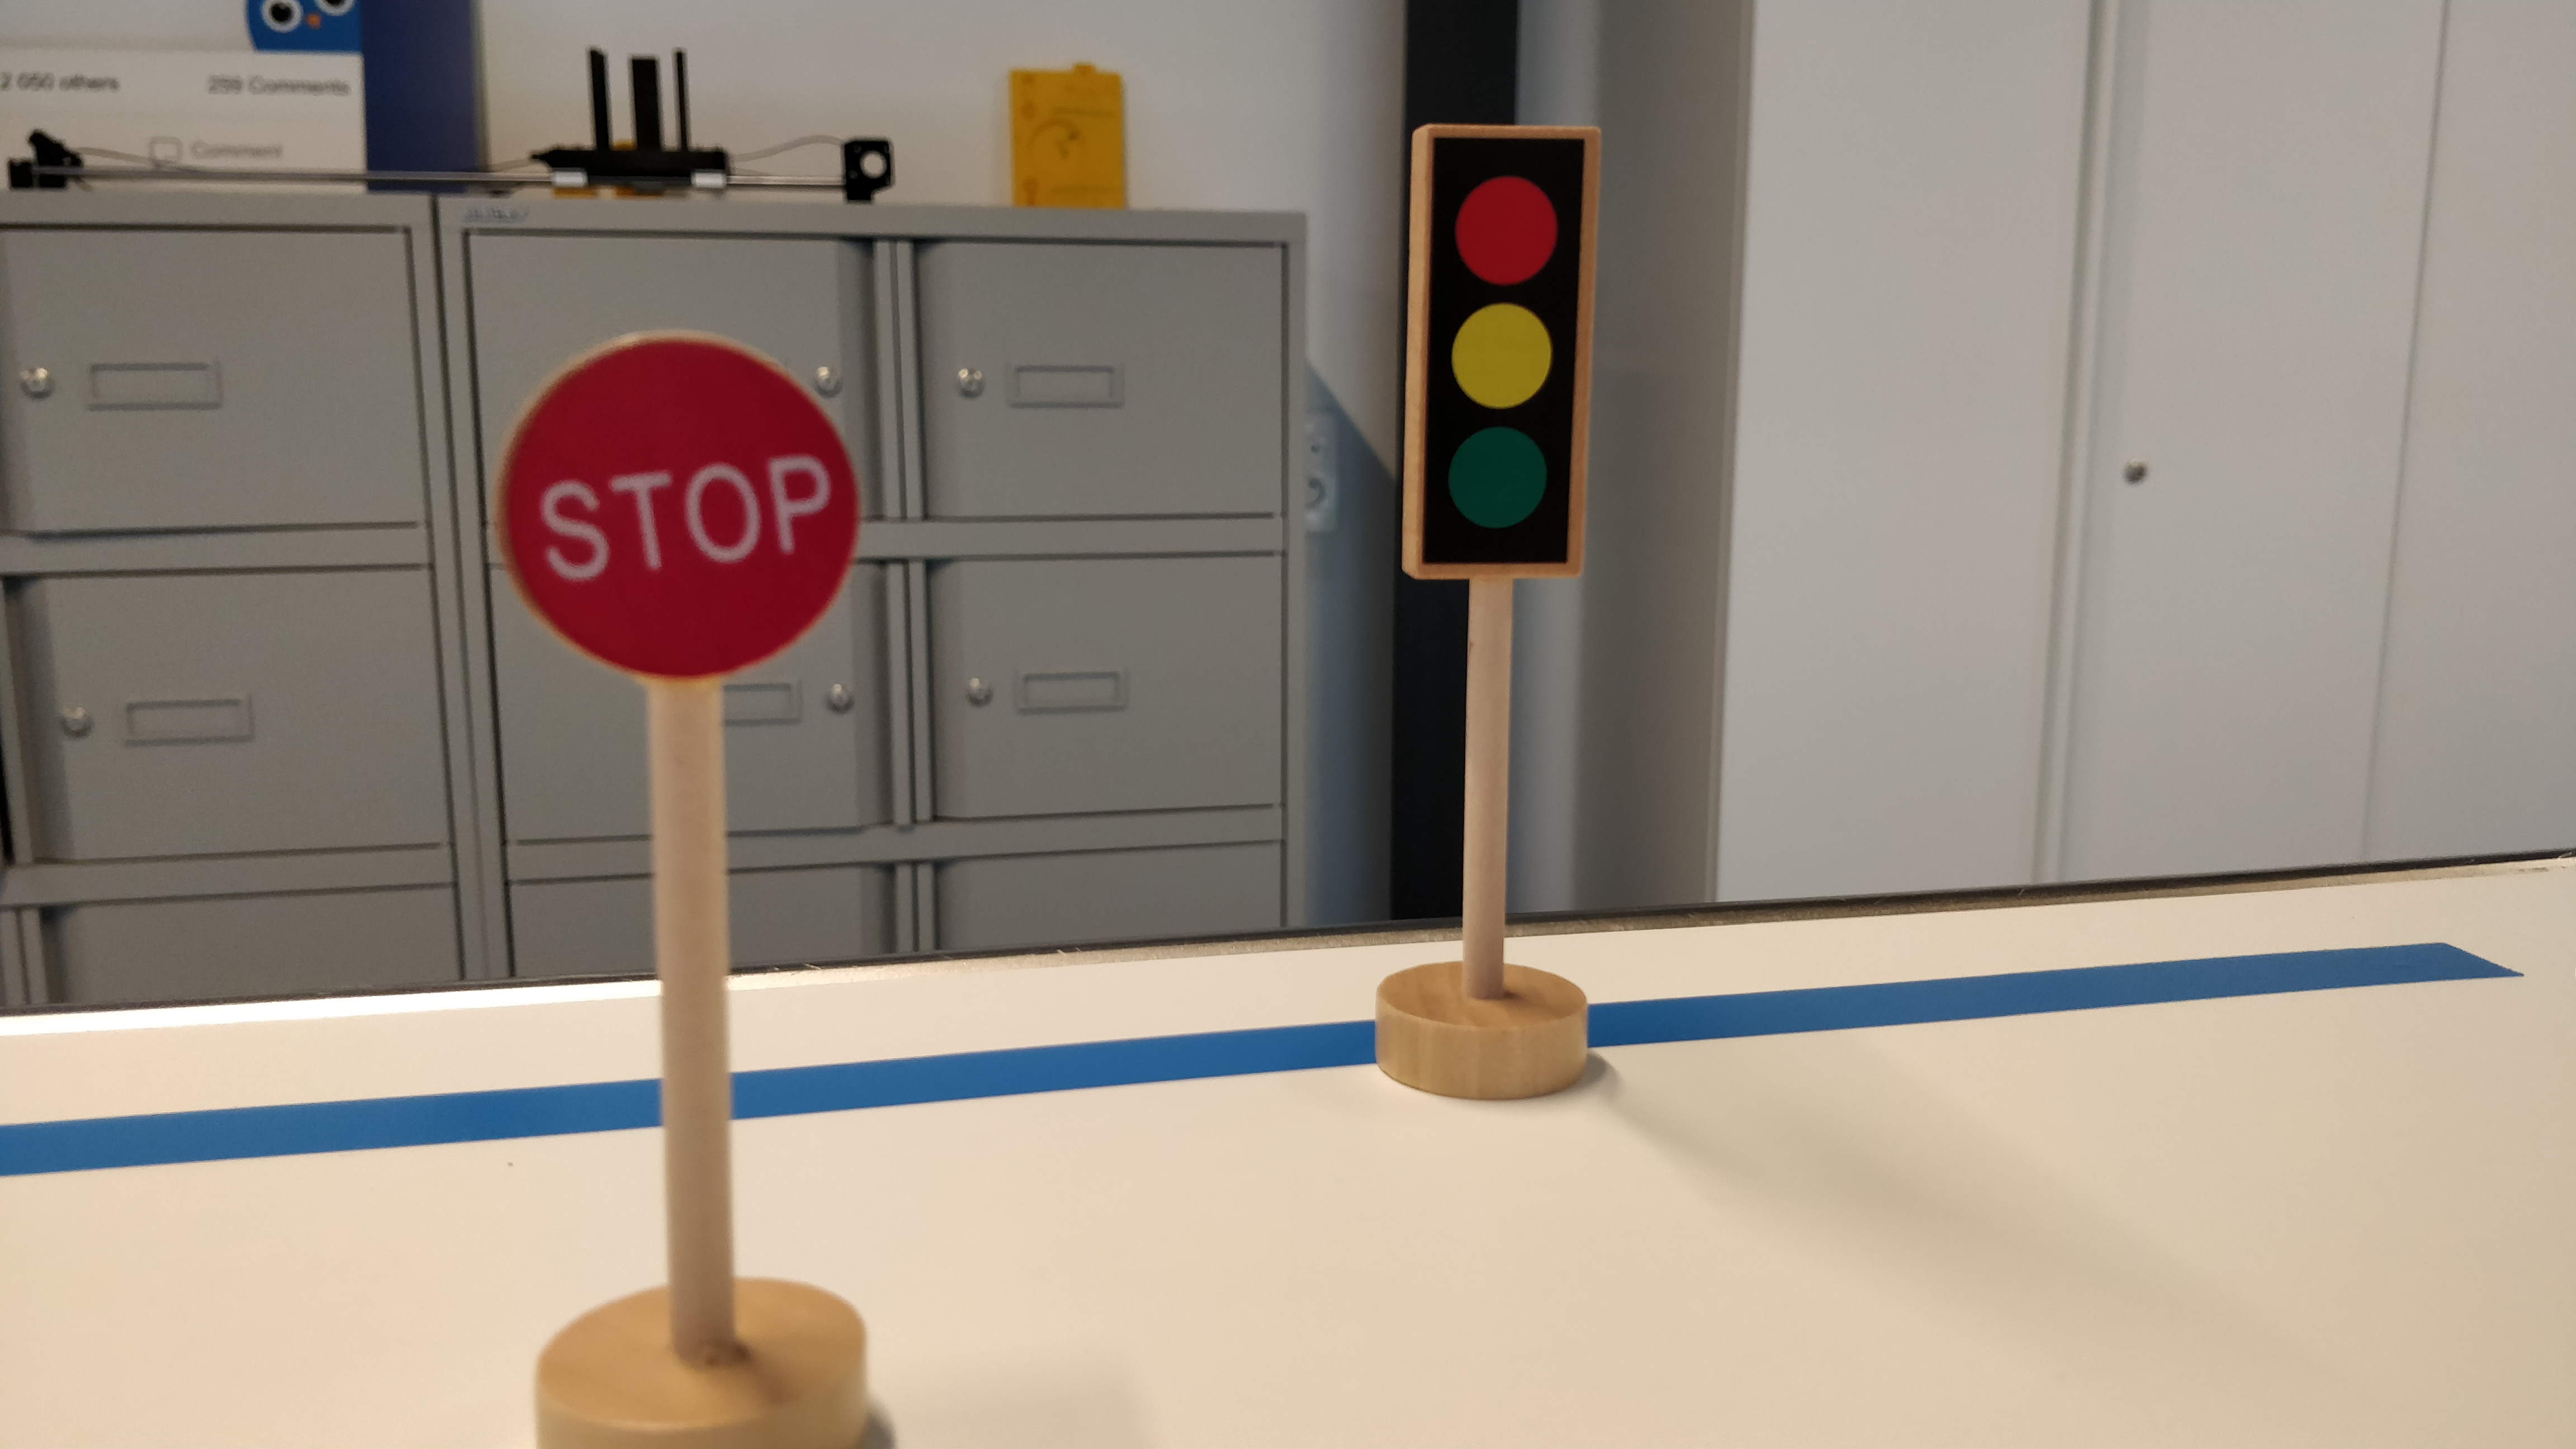Stop Sign: (486, 326, 870, 688)
Traffic Light: (1398, 121, 1603, 584)
